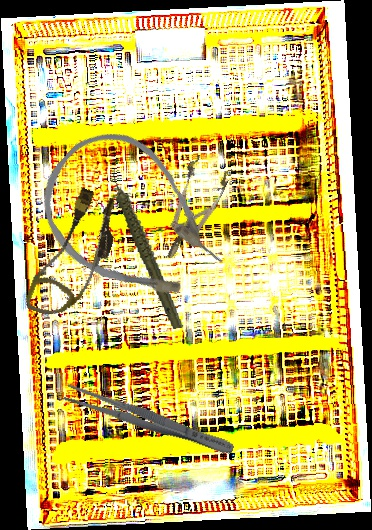Cannula: (17, 109, 246, 335), (23, 182, 127, 328)
Dressing Forceps: (62, 380, 237, 461)
Handpiece: (110, 161, 184, 335)
Speculum: (149, 152, 234, 267)
